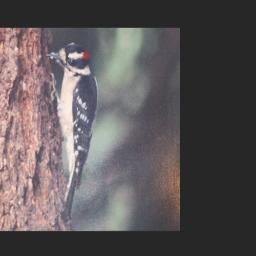Woodpecker: (46, 40, 101, 220)
